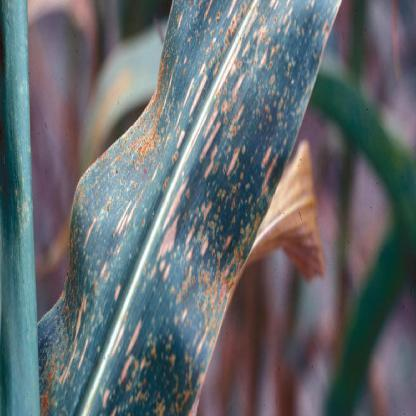Corn rust leaf: (36, 1, 354, 415)
